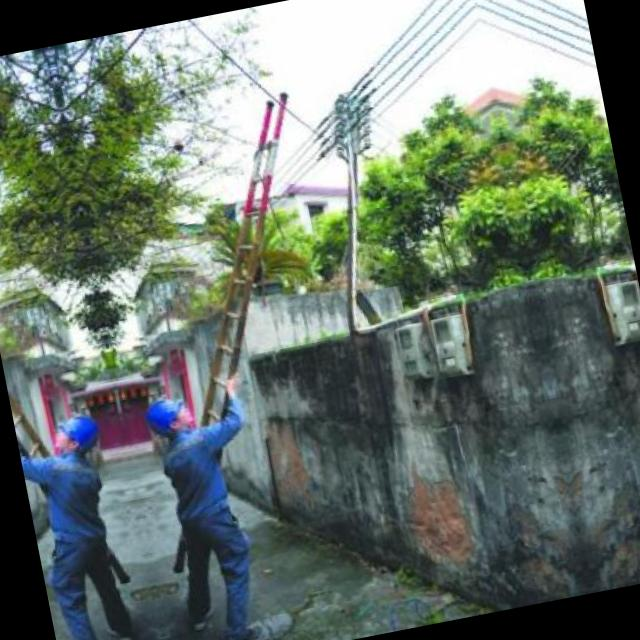helmet: (58, 409, 107, 461), (140, 393, 188, 445)
